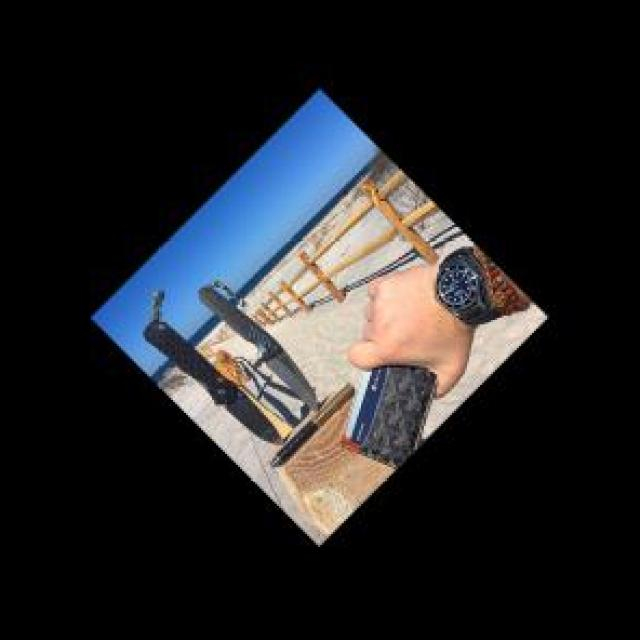knife: (132, 320, 287, 446), (187, 283, 320, 410)
